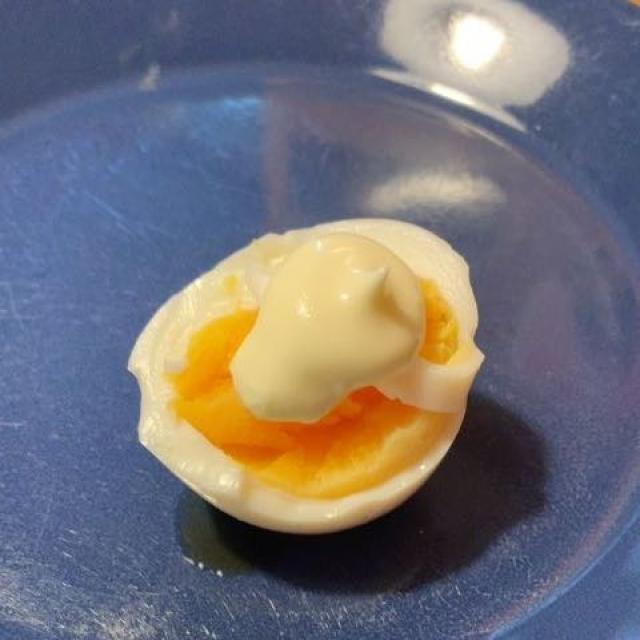egg: (130, 220, 478, 498)
mayonnaise: (225, 221, 425, 442)
